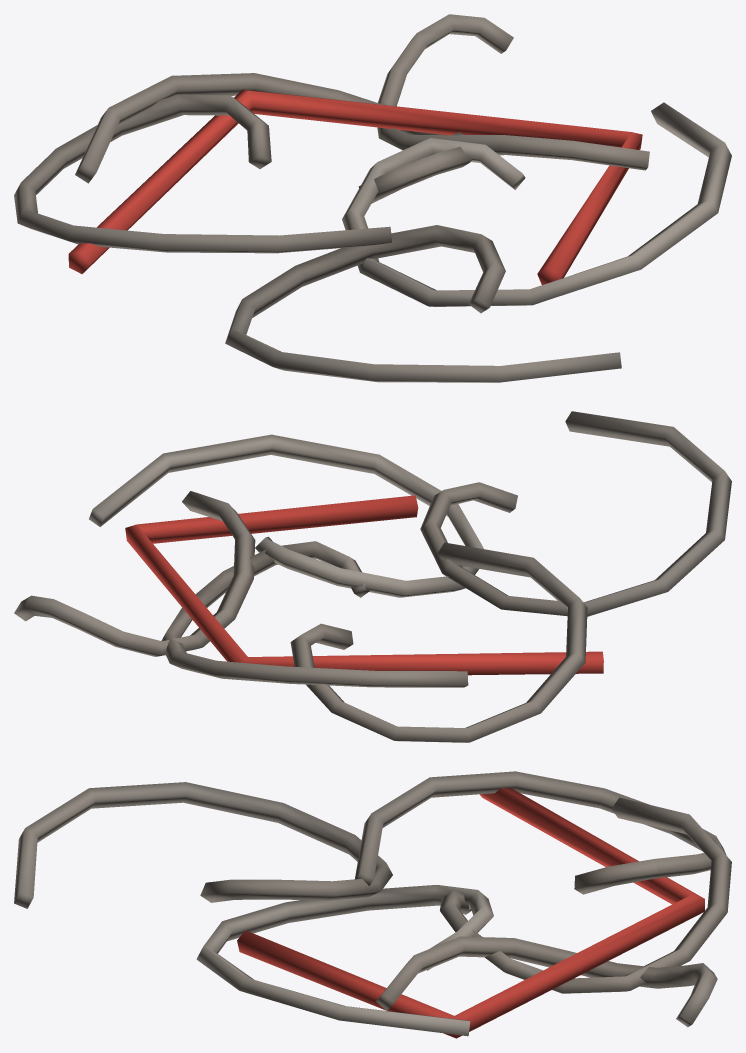
Rendered from den_gc_dust_b.glb.
3 views of the same model, one above another, from view 1: azimuth 30°, elevation 25°; view 2: azimuth 150°, elevation 25°; view 3: azimuth 270°, elevation 25° (orthographic). The views are drawn at different scales.
Visible parts, largest first — view 1: den_gc_dust_b; view 2: den_gc_dust_b; view 3: den_gc_dust_b.
Part boxes in pixels (<box>): den_gc_dust_b: <box>14,14,731,382</box>; den_gc_dust_b: <box>14,411,731,742</box>; den_gc_dust_b: <box>14,771,731,1038</box>.
Bounding box in the file's own units: 2.07 × 0.2266 × 2.39.
